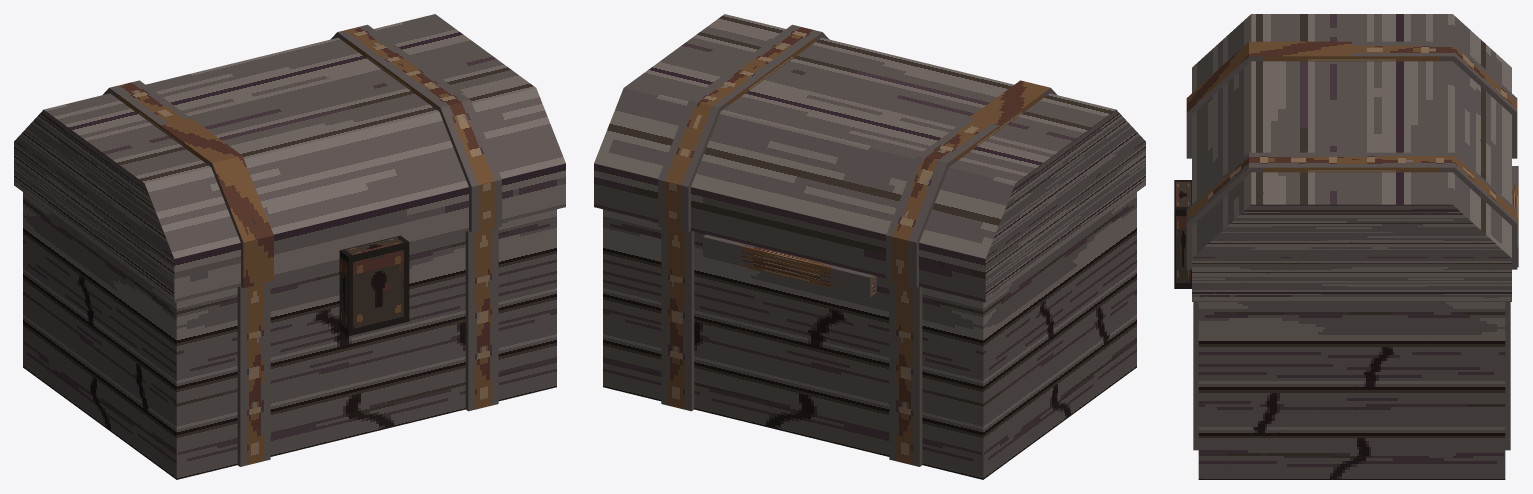
Rendered from chest_beggar.glb.
3 views of the same model, side by side, from view 1: azimuth 30°, elevation 25°; view 2: azimuth 150°, elevation 25°; view 3: azimuth 270°, elevation 25° (orthographic).
Visible parts, largest first — view 1: lid, base, lock; view 2: lid, base; view 3: lid, base, lock.
Part boxes in pixels (<box>): lid: <box>14,14,565,302</box>; base: <box>23,192,556,479</box>; lock: <box>339,235,409,336</box>; lid: <box>594,14,1145,302</box>; base: <box>603,192,1136,479</box>; lid: <box>1186,14,1517,301</box>; base: <box>1193,166,1518,479</box>; lock: <box>1174,180,1191,288</box>.
Size of the model in its own units: 1.03 by 0.712 by 0.785.
1 material, 1 textured.
